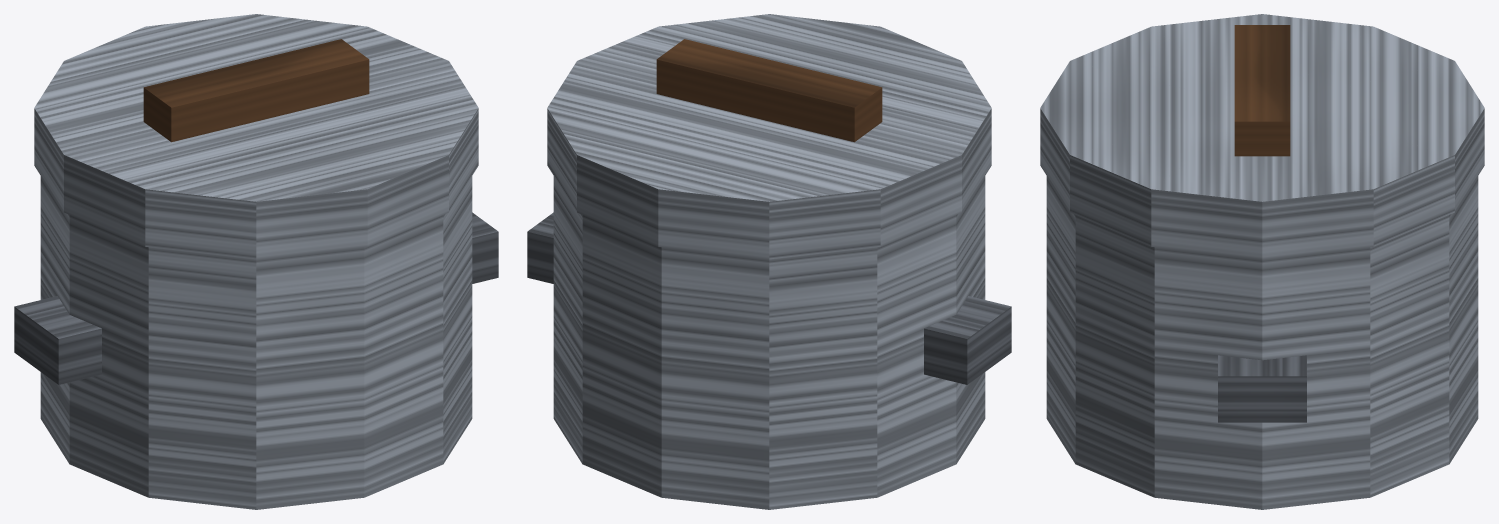
The model's file is rice_cooker.fbx.
The picture shows the model from 3 angles, left to right: view 1: azimuth 30°, elevation 25°; view 2: azimuth 150°, elevation 25°; view 3: azimuth 270°, elevation 25°; orthographic projection.
Visible parts, largest first — view 1: rice_cooker; view 2: rice_cooker; view 3: rice_cooker.
Boxes of the visible parts, x1,y1,x2,y2 form: rice_cooker: (14, 14, 498, 509); rice_cooker: (527, 14, 1011, 509); rice_cooker: (1040, 14, 1484, 509).
Bounding box in the file's own units: 40 × 30 × 35.
